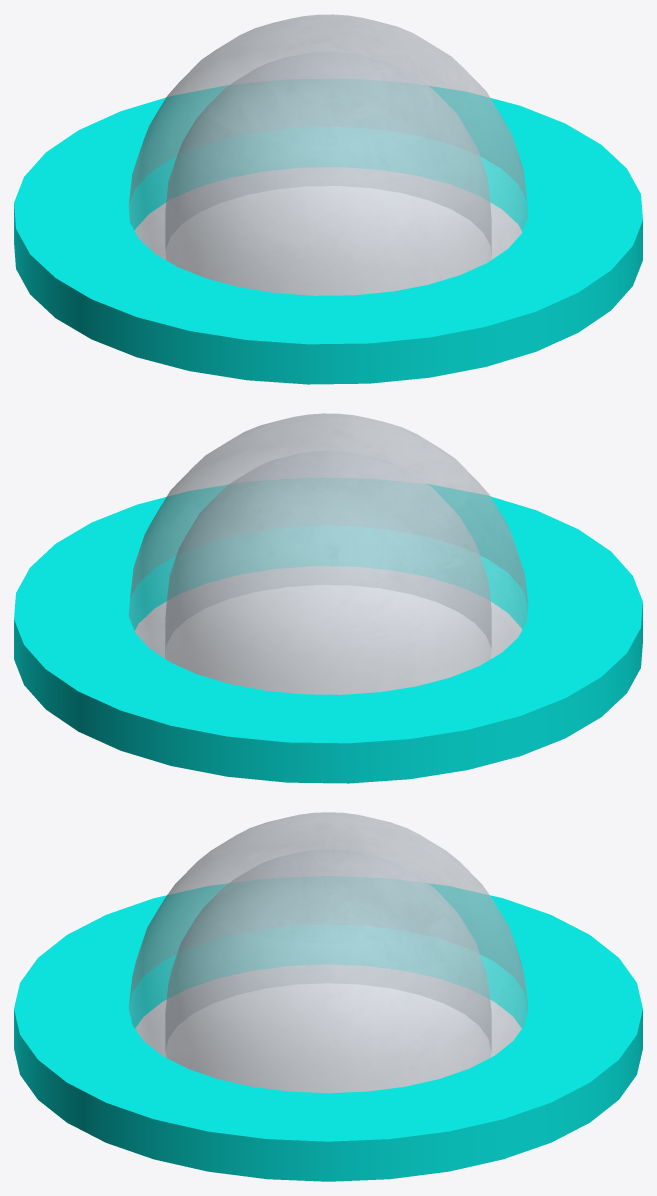
File: yoTyanShakerv2.fbx
3 views of the same model, one above another, from view 1: azimuth 30°, elevation 25°; view 2: azimuth 150°, elevation 25°; view 3: azimuth 270°, elevation 25° (orthographic).
Visible parts, largest first — view 1: Sphere.001; view 2: Sphere.001; view 3: Sphere.001.
Part boxes in pixels (left/top/right/bottom): Sphere.001: left=14, top=14, right=642, bottom=384; Sphere.001: left=14, top=413, right=642, bottom=783; Sphere.001: left=14, top=812, right=642, bottom=1181.
Bounding box in the file's own units: 23.51 × 9.13 × 23.51.
Materials: 2 (1 with a texture image).
